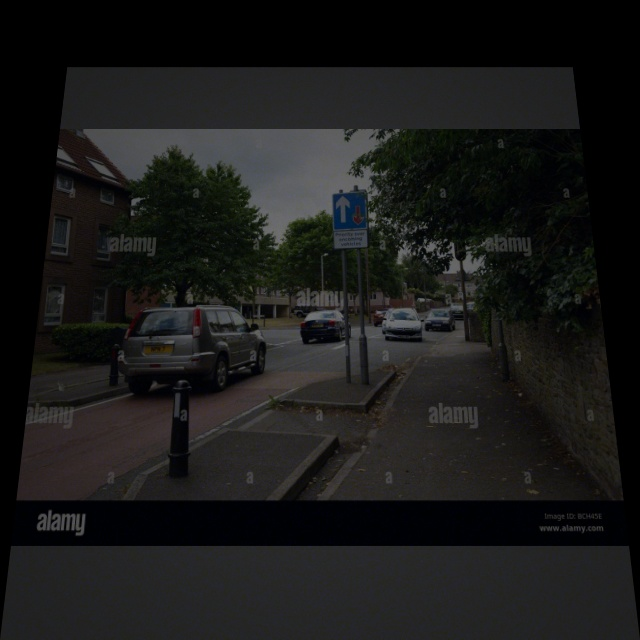Priority_for_Oncoming_Traffic: (332, 192, 369, 229)
